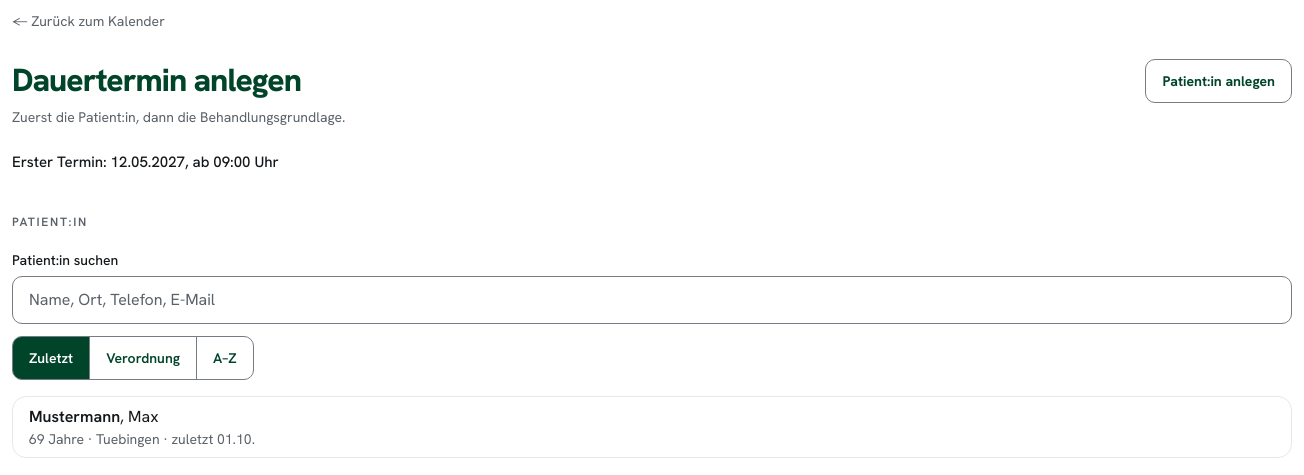
Test: DauerterminStartPage › fragt ohne Person zuerst nach ihr und nimmt die Zeit mit
Expected: the text "Erster Termin: 12.05.2027, ab 09:00 Uhr" is shown, left=12, top=152, right=279, bottom=172
Click the link "Mustermann, Max 69 Jahre · Tuebingen · zuletzt 01.10." at (142, 426), box left=29, top=406, right=255, bottom=448
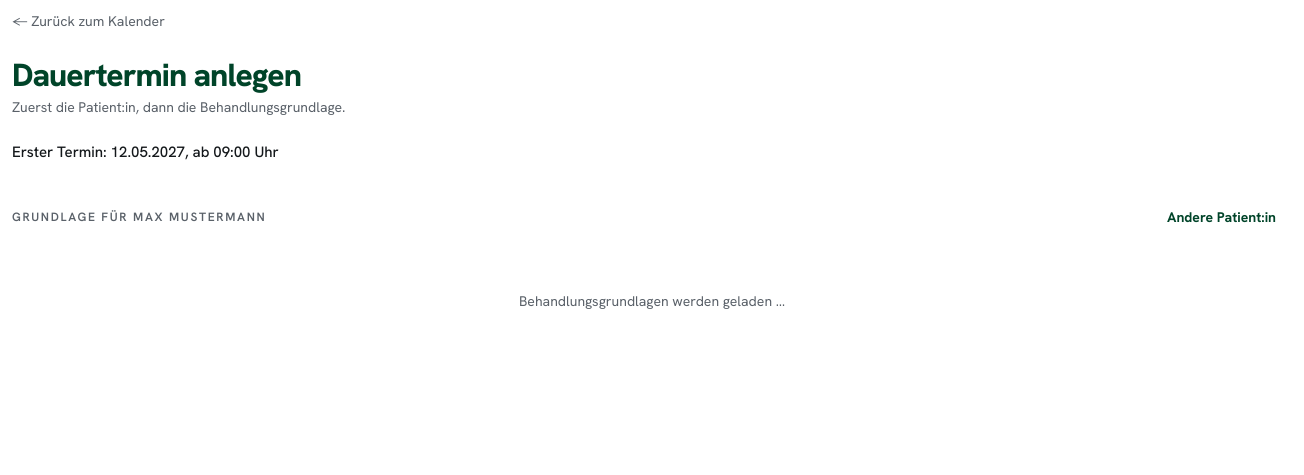
Result: the heading "Grundlage für Max Mustermann" is shown at left=12, top=209, right=266, bottom=225
